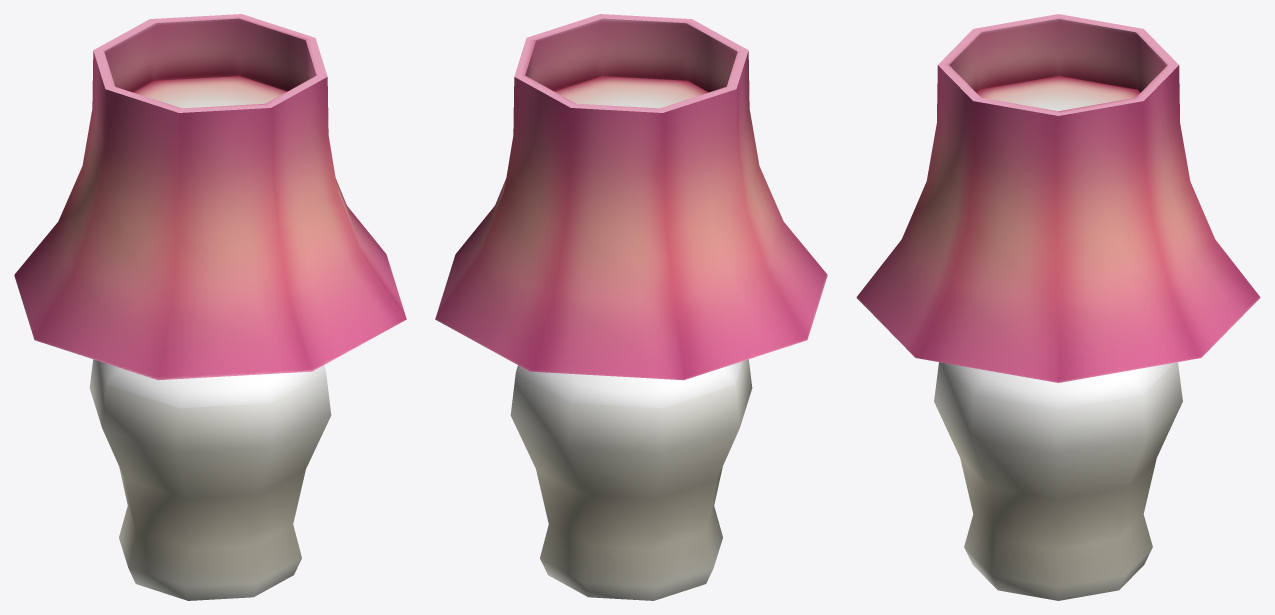
File: lamp.FBX
3 views of the same model, side by side, from view 1: azimuth 30°, elevation 25°; view 2: azimuth 150°, elevation 25°; view 3: azimuth 270°, elevation 25° (orthographic).
Parts seen in each view (by area): view 1: lamp; view 2: lamp; view 3: lamp.
Boxes of the visible parts, left/top/right/bottom form: lamp: left=14, top=14, right=406, bottom=600; lamp: left=435, top=14, right=827, bottom=600; lamp: left=856, top=14, right=1260, bottom=600.
Bounding box in the file's own units: 30.84 × 42.54 × 30.84.
